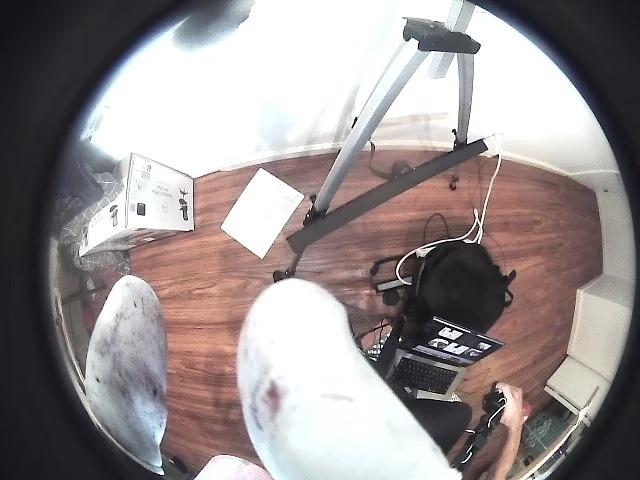berry: (173, 0, 254, 49)
gripper: (237, 279, 463, 479), (84, 275, 167, 474)
lense: (0, 0, 204, 479), (476, 0, 639, 479)
